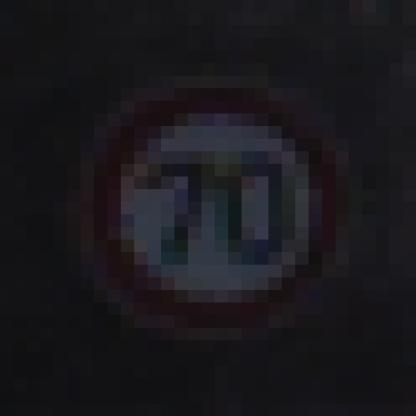Speed Limit 70: (87, 89, 342, 330)
